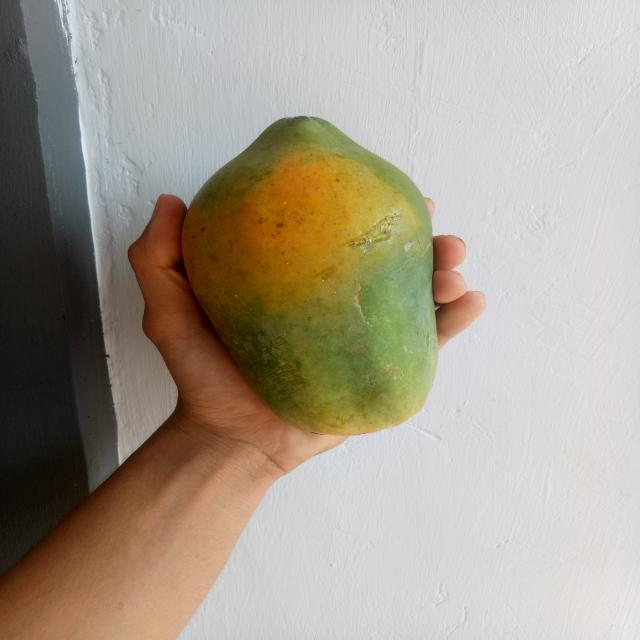Pepaya rippen: (184, 110, 443, 432)
